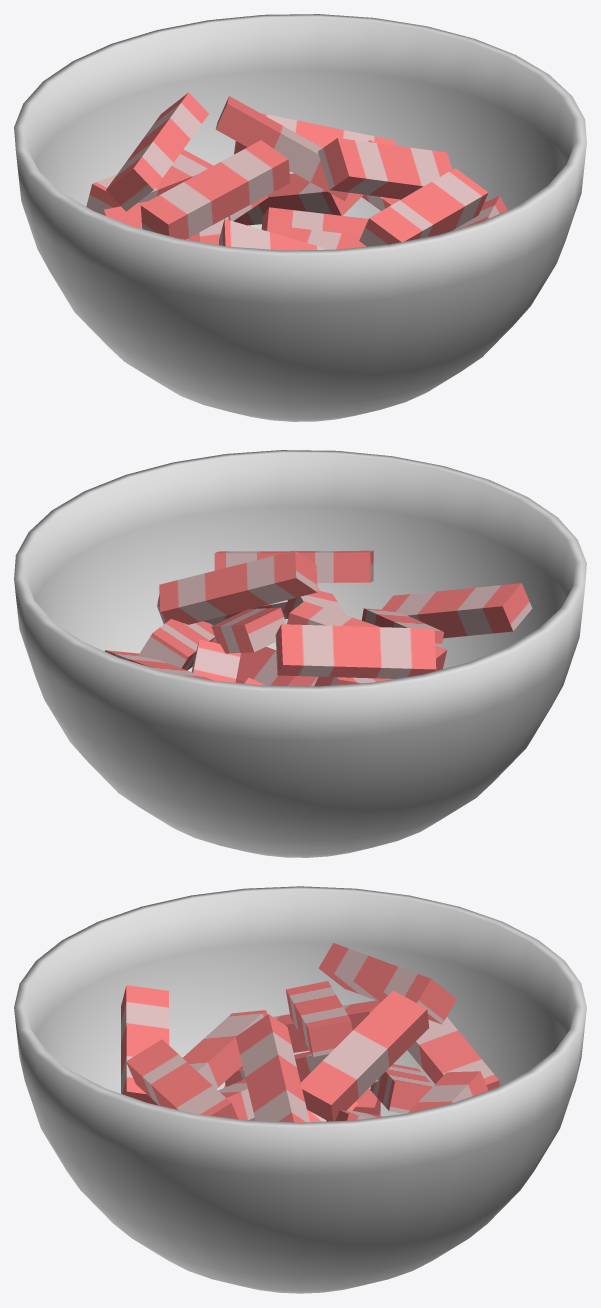
File: lardons.fbx
3 views of the same model, one above another, from view 1: azimuth 30°, elevation 25°; view 2: azimuth 150°, elevation 25°; view 3: azimuth 270°, elevation 25° (orthographic).
Parts seen in each view (by area): view 1: Bol, Lardon.019, Lardon.022, Lardon.023, Lardon.021, Lardon.020, Lardon.007, Lardon.006, Lardon.017, Lardon.015, Lardon.018, Lardon.009 (+2 smaller); view 2: Bol, Lardon.021, Lardon.022, Lardon.016, Lardon.023, Lardon.020, Lardon.011, Lardon.006, Lardon.007, Lardon.019, Lardon.015, Lardon.018 (+1 smaller); view 3: Bol, Lardon.020, Lardon.022, Lardon.021, Lardon.023, Lardon.016, Lardon.019, Lardon.017, Lardon.015, Lardon.010, Lardon.018, Lardon.014 (+2 smaller).
Part boxes in pixels (x1=…): Bol: x1=14, y1=14, x2=586, y2=421; Lardon.019: x1=140, y1=140, x2=289, y2=239; Lardon.022: x1=318, y1=138, x2=451, y2=199; Lardon.023: x1=359, y1=168, x2=488, y2=246; Lardon.021: x1=106, y1=92, x2=208, y2=211; Lardon.020: x1=215, y1=96, x2=348, y2=201; Lardon.007: x1=233, y1=173, x2=363, y2=225; Lardon.006: x1=261, y1=207, x2=368, y2=236; Lardon.017: x1=86, y1=149, x2=213, y2=214; Lardon.015: x1=219, y1=219, x2=328, y2=250; Lardon.018: x1=234, y1=113, x2=395, y2=171; Lardon.009: x1=285, y1=227, x2=366, y2=249; Bol: x1=14, y1=450, x2=586, y2=857; Lardon.021: x1=275, y1=624, x2=436, y2=678; Lardon.022: x1=159, y1=550, x2=317, y2=624; Lardon.016: x1=382, y1=583, x2=532, y2=638; Lardon.023: x1=214, y1=550, x2=373, y2=582; Lardon.020: x1=211, y1=607, x2=286, y2=653; Lardon.011: x1=138, y1=619, x2=214, y2=670; Lardon.006: x1=211, y1=637, x2=317, y2=686; Lardon.007: x1=191, y1=639, x2=240, y2=682; Lardon.019: x1=287, y1=601, x2=447, y2=670; Lardon.015: x1=361, y1=608, x2=443, y2=647; Lardon.018: x1=105, y1=650, x2=213, y2=680; Bol: x1=14, y1=886, x2=586, y2=1293; Lardon.020: x1=300, y1=990, x2=429, y2=1121; Lardon.022: x1=236, y1=1014, x2=309, y2=1122; Lardon.021: x1=318, y1=943, x2=456, y2=1024; Lardon.023: x1=126, y1=1039, x2=238, y2=1119; Lardon.016: x1=121, y1=985, x2=169, y2=1105; Lardon.019: x1=285, y1=981, x2=352, y2=1056; Lardon.017: x1=407, y1=1017, x2=499, y2=1090; Lardon.015: x1=183, y1=1010, x2=267, y2=1088; Lardon.010: x1=370, y1=1064, x2=433, y2=1113; Lardon.018: x1=408, y1=1071, x2=488, y2=1113; Lardon.014: x1=273, y1=1000, x2=380, y2=1052.
Size of the model in its own units: 168 by 86.17 by 168.
23 materials, 22 textured.
